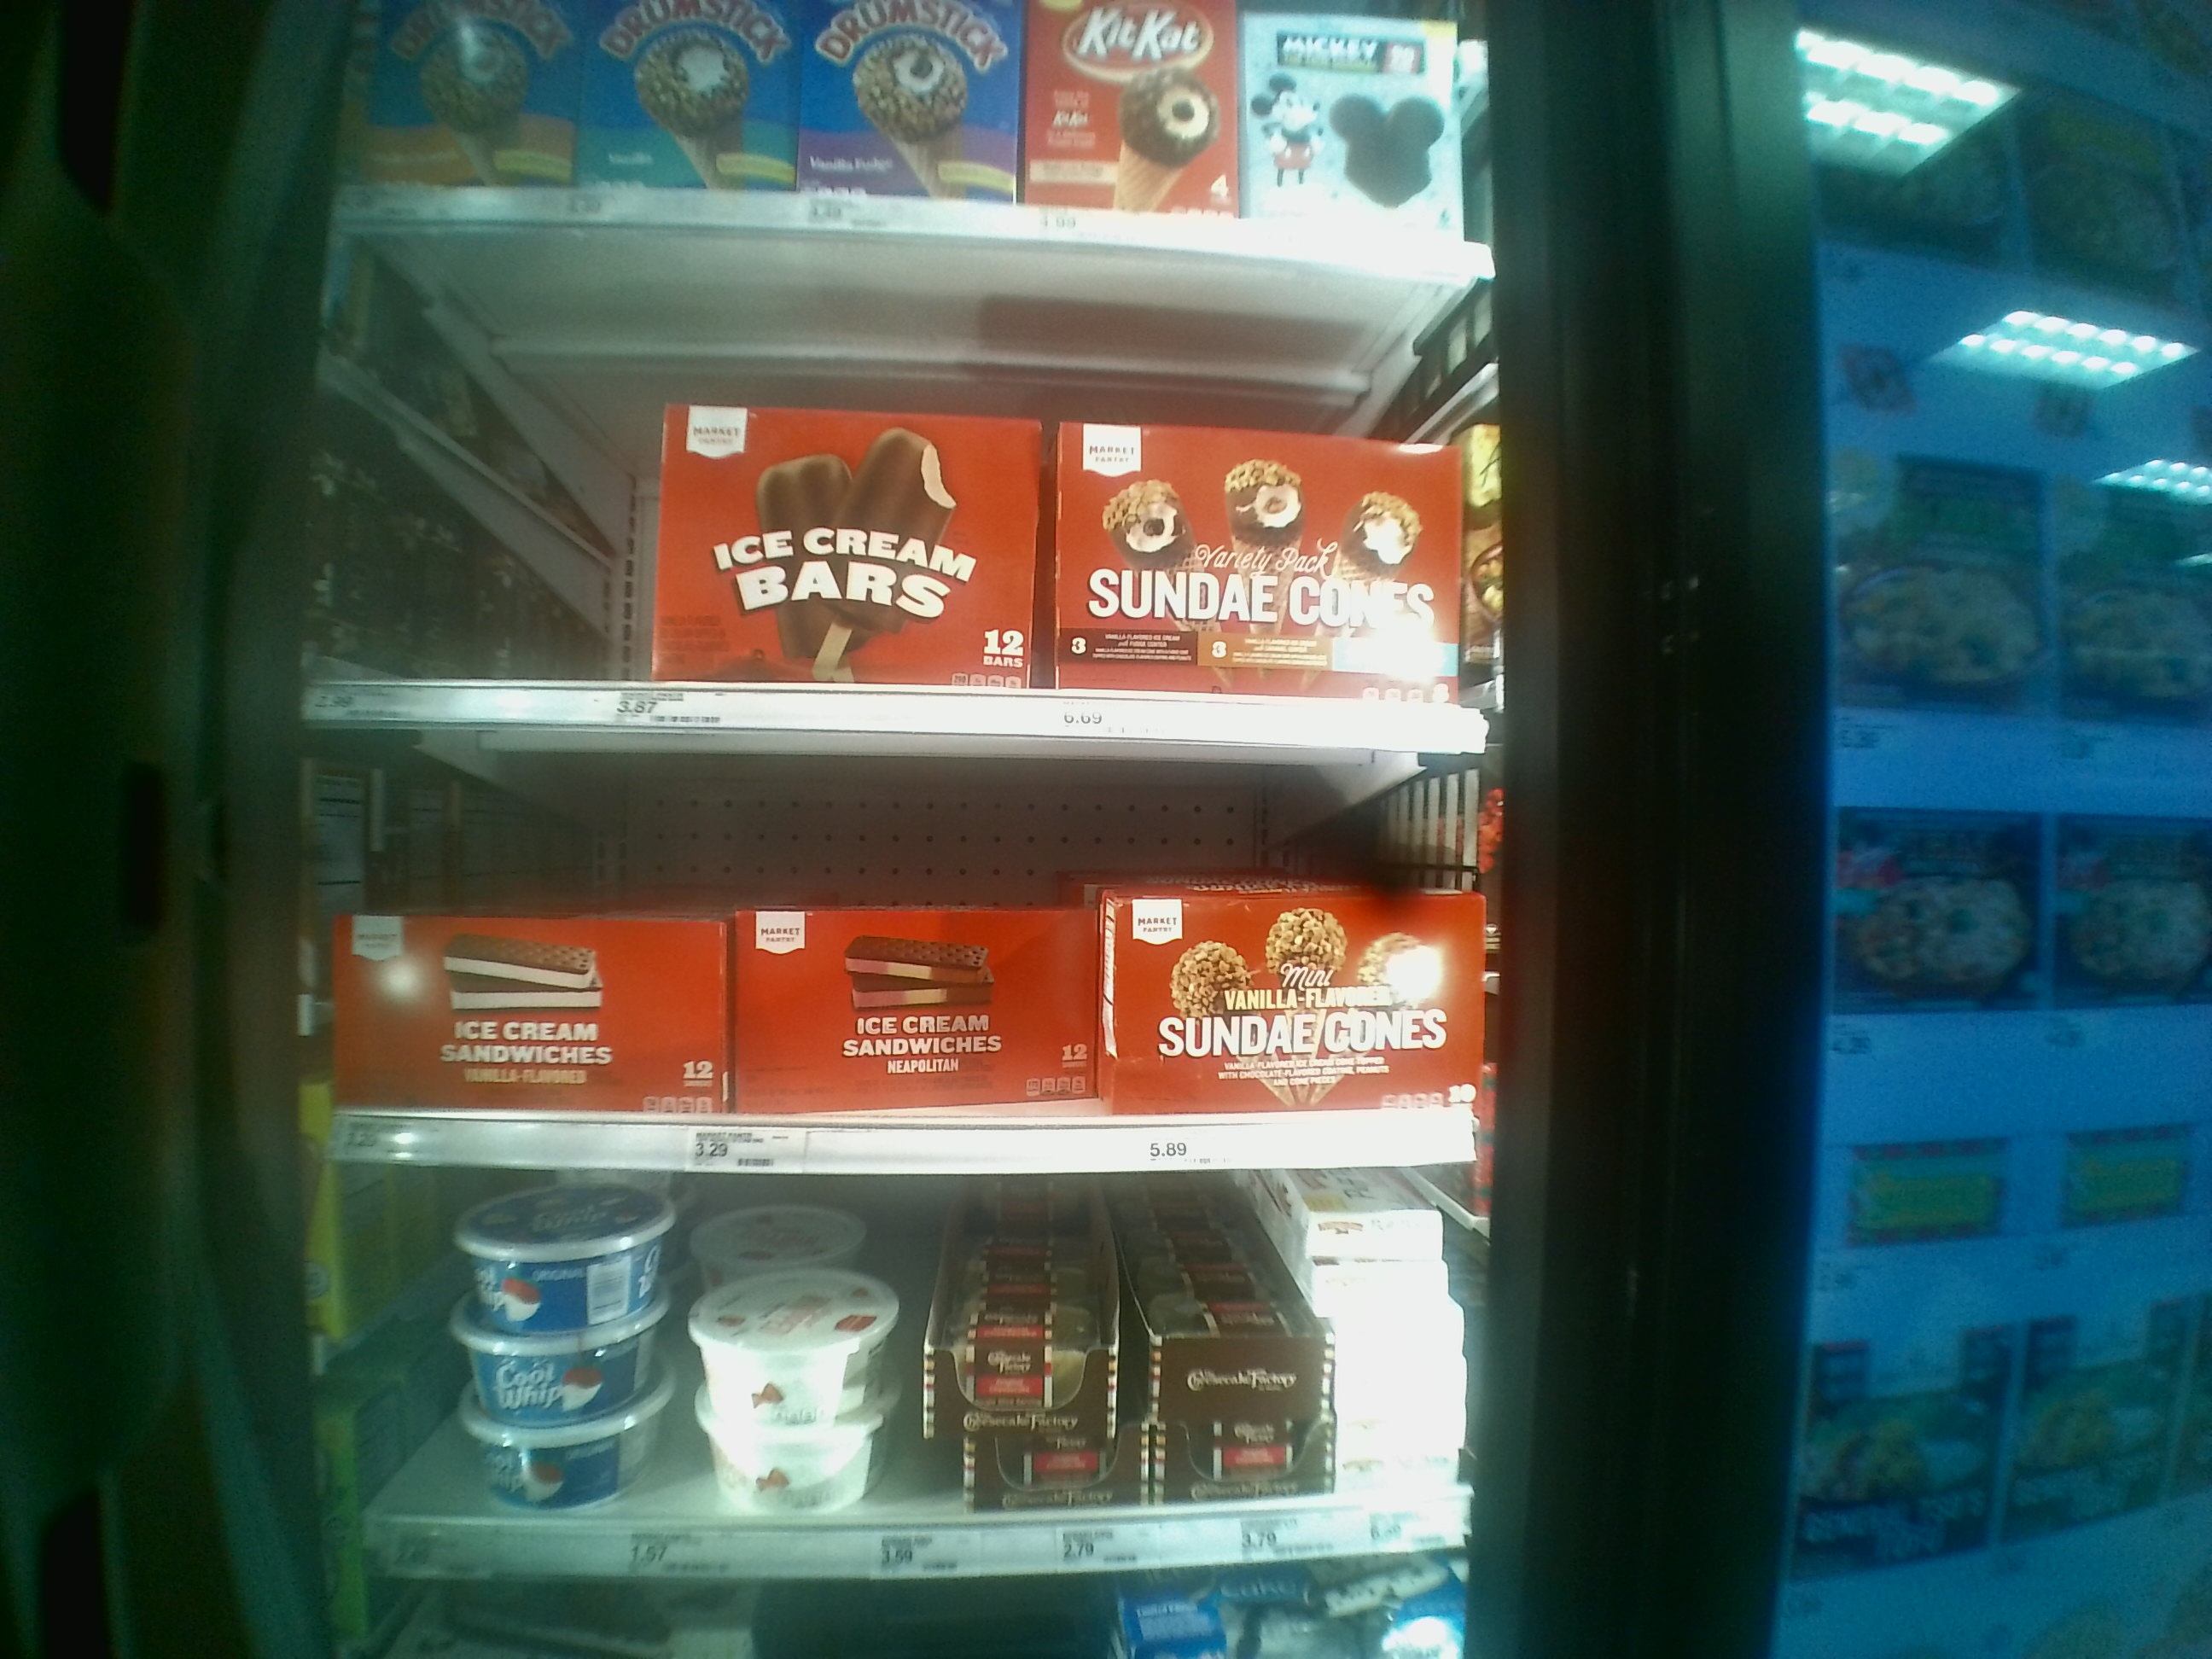frozen-food-shelf: (279, 232, 1515, 767), (279, 769, 1524, 1180), (273, 1178, 1541, 1579)
